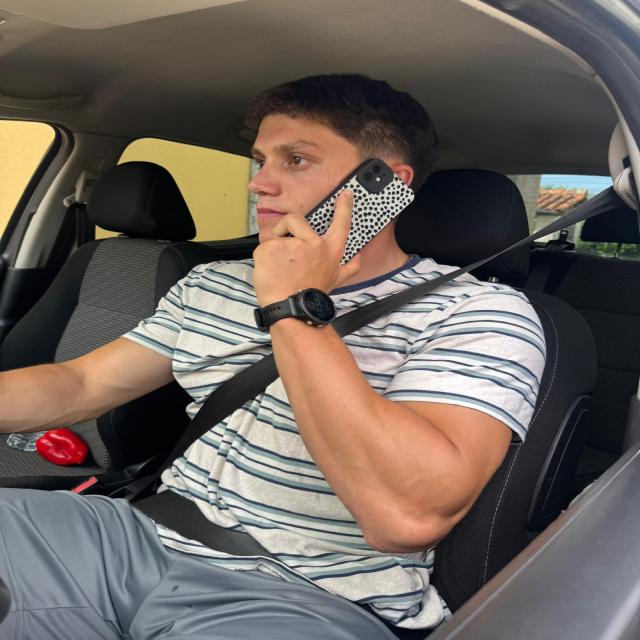Phone: (290, 161, 418, 260)
Seatbelt: (91, 172, 640, 534)
